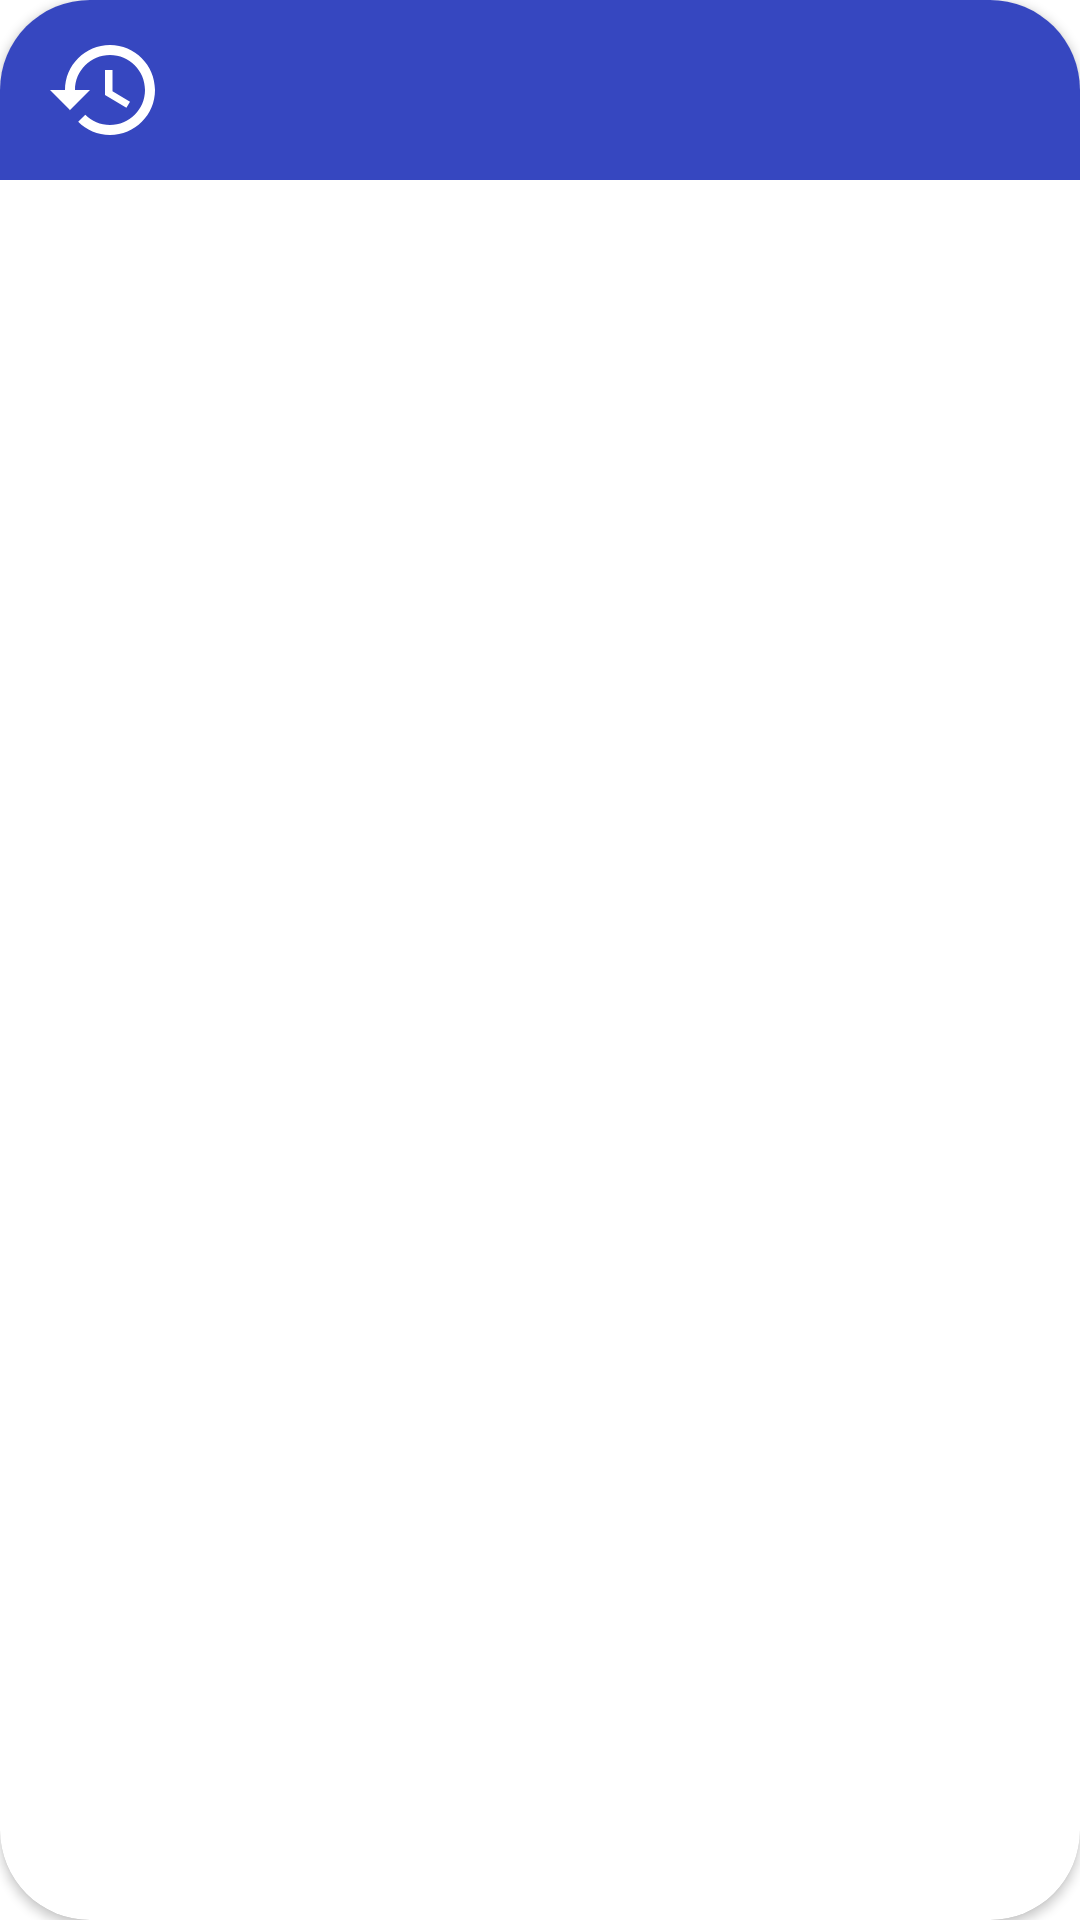

Where icons sit on this 1080*1920 app screen, as (x1, y1, x2, y2):
history: (50, 45, 155, 135)
